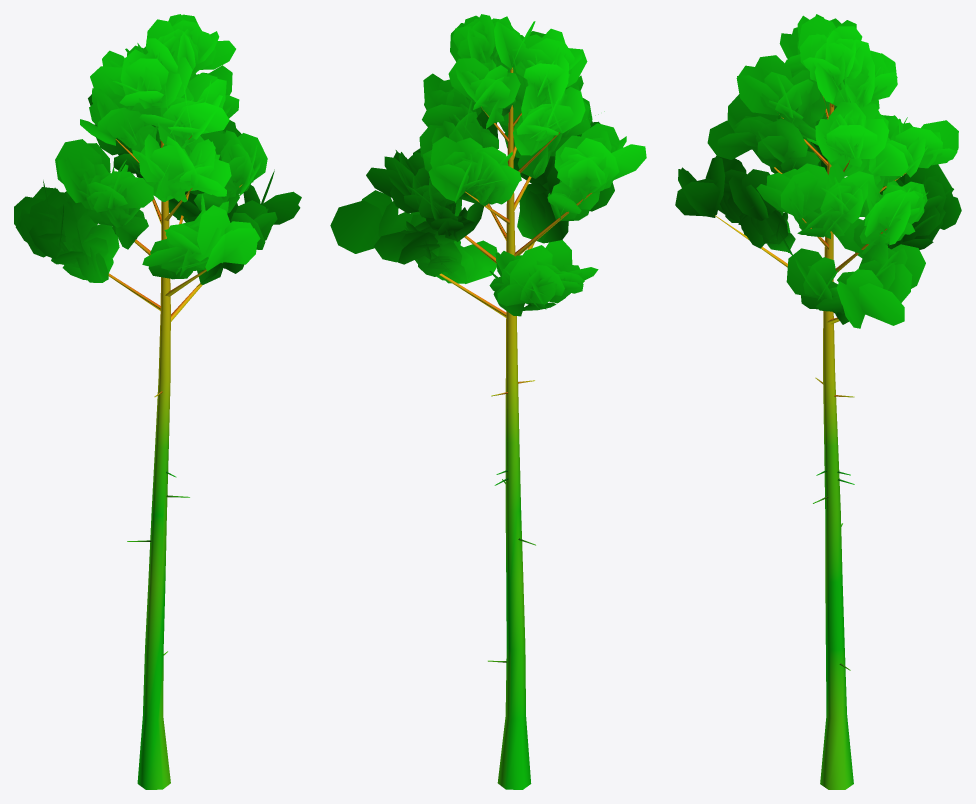
The model's file is tree_pine_a_lod1.glb.
The picture shows the model from 3 angles, left to right: view 1: azimuth 30°, elevation 25°; view 2: azimuth 150°, elevation 25°; view 3: azimuth 270°, elevation 25°; orthographic projection.
Visible parts, largest first — view 1: tree_pine_a_lod1.1, tree_pine_a_lod1.0; view 2: tree_pine_a_lod1.1, tree_pine_a_lod1.0; view 3: tree_pine_a_lod1.1, tree_pine_a_lod1.0.
Part boxes in pixels (box(x1,y1,x2,y2)): tree_pine_a_lod1.1: box(14, 14, 301, 288); tree_pine_a_lod1.0: box(108, 135, 242, 789); tree_pine_a_lod1.1: box(330, 14, 646, 316); tree_pine_a_lod1.0: box(439, 67, 592, 789); tree_pine_a_lod1.1: box(675, 14, 961, 328); tree_pine_a_lod1.0: box(715, 96, 905, 789).
Size of the model in its own units: 7.6 by 20.93 by 7.09.
